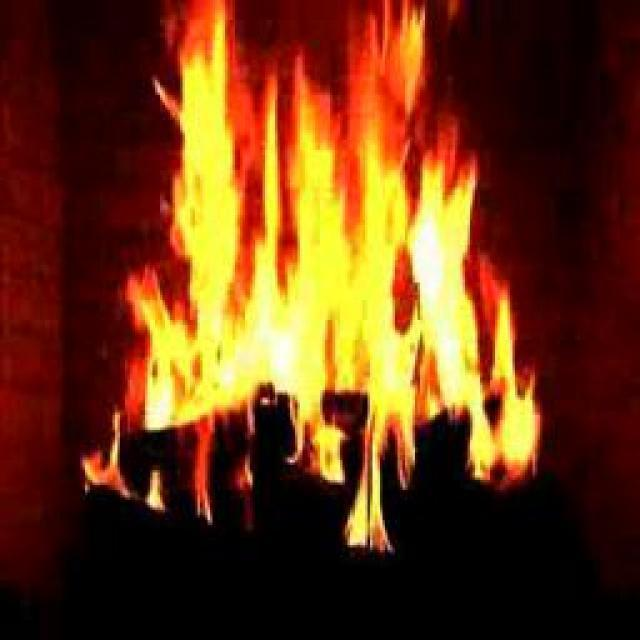Fire: (143, 62, 539, 464)
